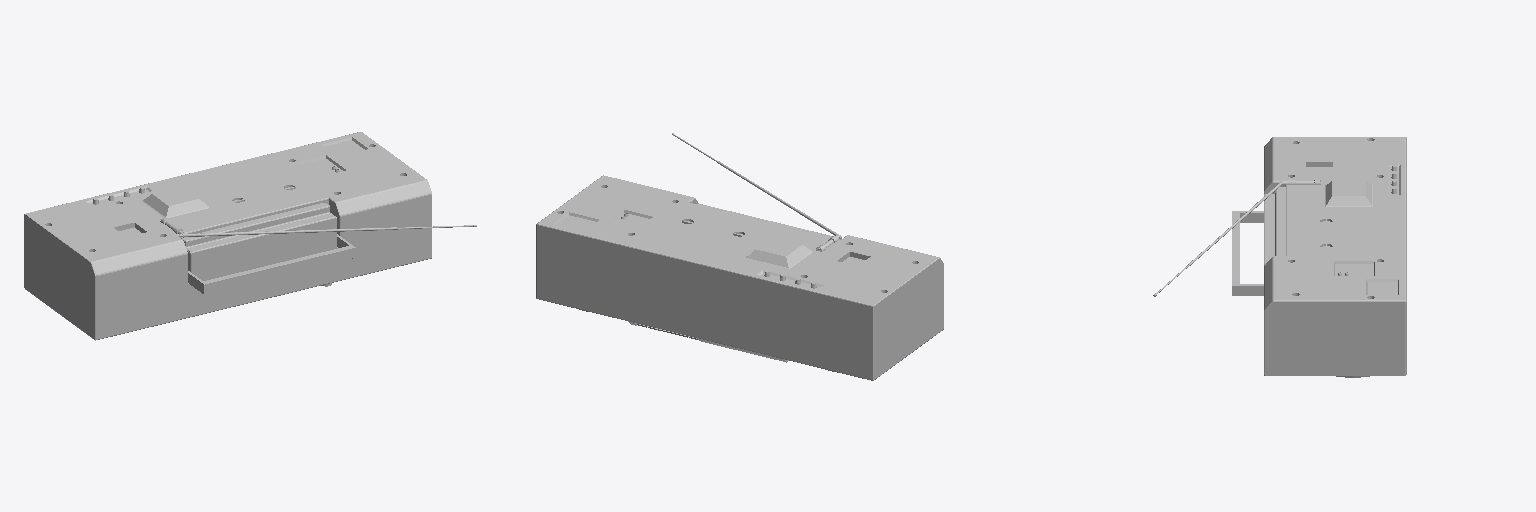
Rendered from boombox.obj.
3 renders of one model, left to right at view 1: azimuth 30°, elevation 25°; view 2: azimuth 150°, elevation 25°; view 3: azimuth 270°, elevation 25°, orthographic.
Visible parts, largest first — view 1: obj1; view 2: obj1; view 3: obj1.
Boxes of the visible parts, box(x1,y1,x2,y2) form: obj1: box(24, 132, 476, 340); obj1: box(536, 133, 943, 380); obj1: box(1153, 137, 1406, 377).
Size of the model in its own units: 0.7238 by 0.1865 by 0.4701.